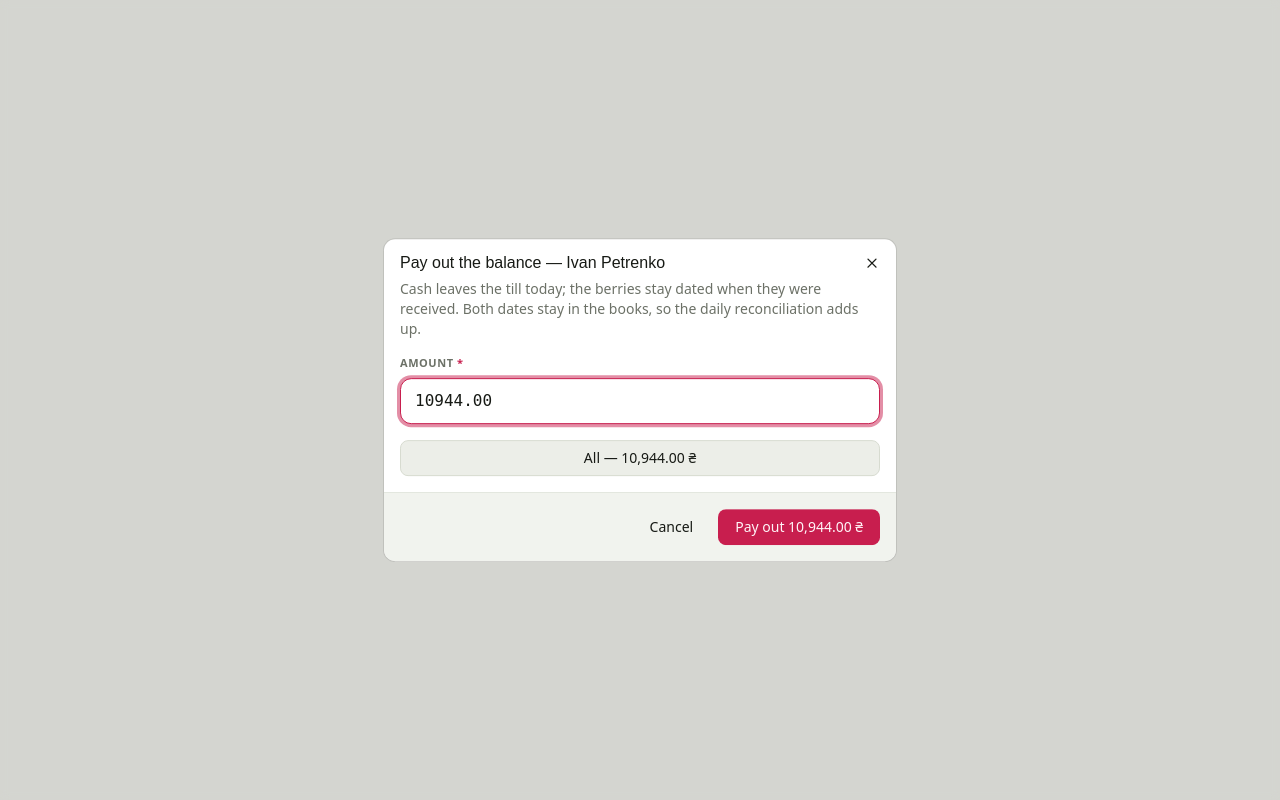
Test: the shared money field (#72) › never holds a space and refuses a half-typed sum with the shared message
Replace the text in the field labelled "Amount" with "980 40" at (640, 401), box [400,378,880,424]
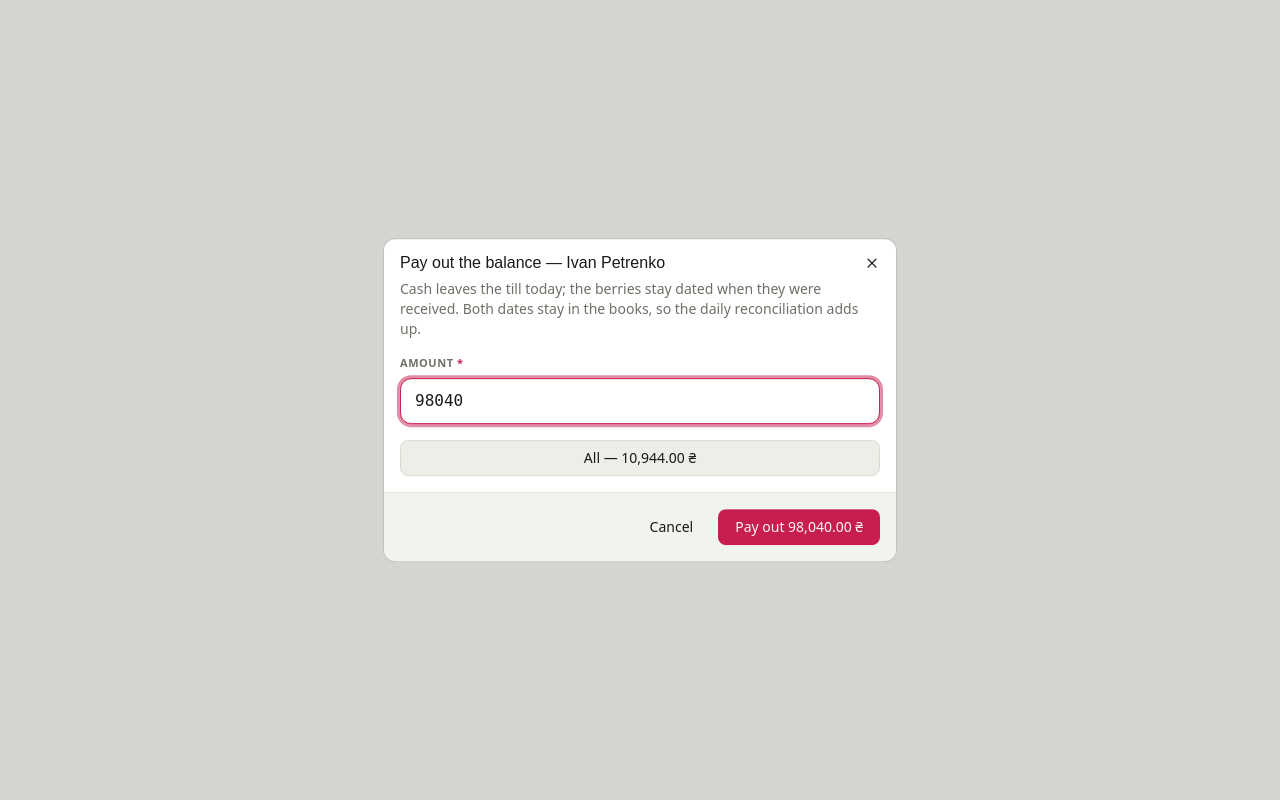
Check: the field labelled "Amount" holds "98040"
Replace the text in the field labelled "Amount" with "12." at (640, 401), box [400,378,880,424]
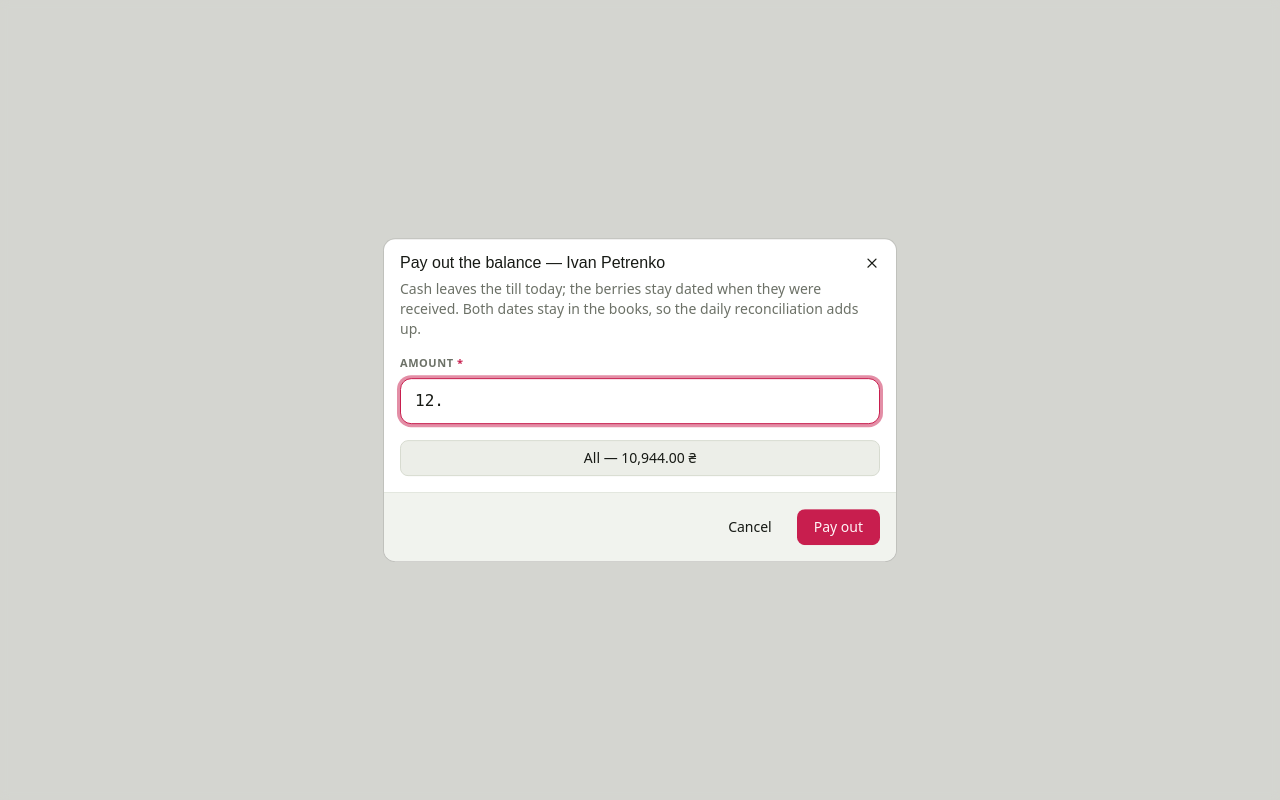
Click the button "Pay out" at (838, 527), box [797,509,880,545]
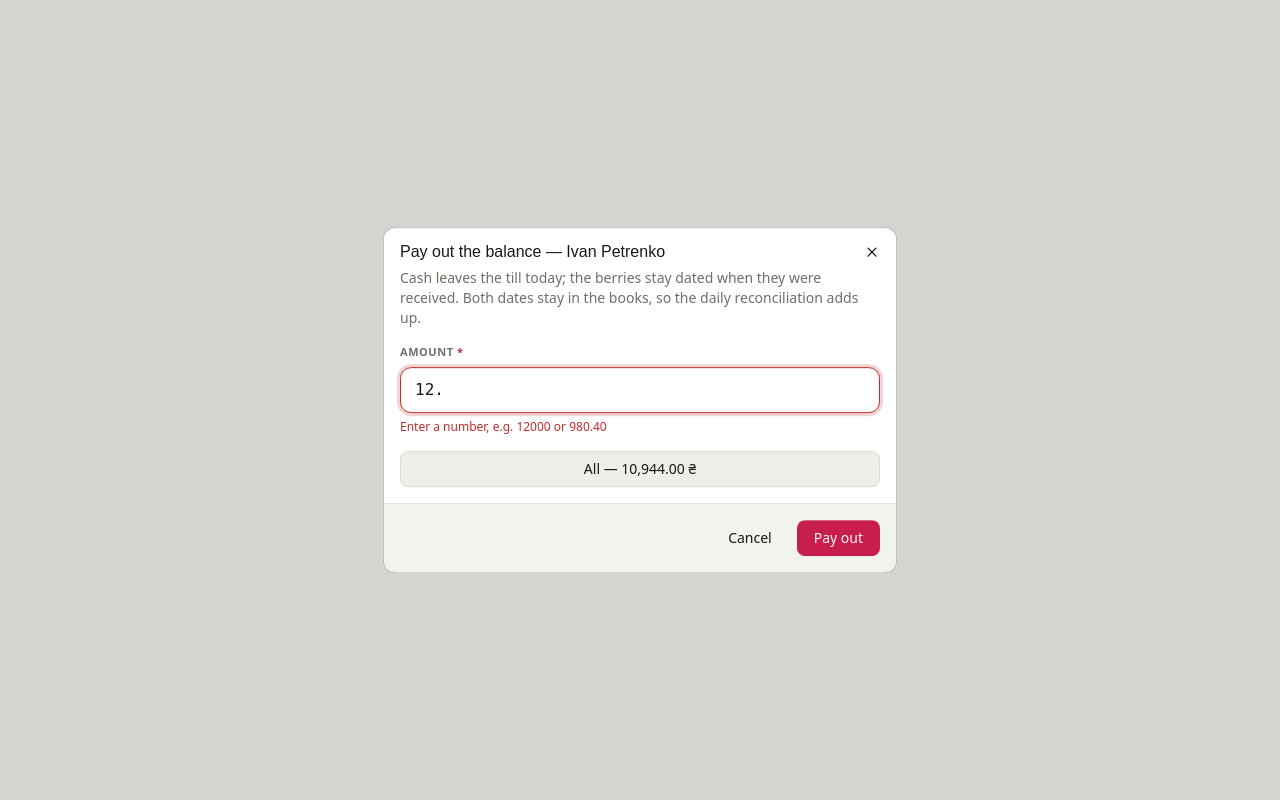
Check: the text "Enter a number, e.g. 12000 or 980.40" is shown, box [400,418,607,435]
